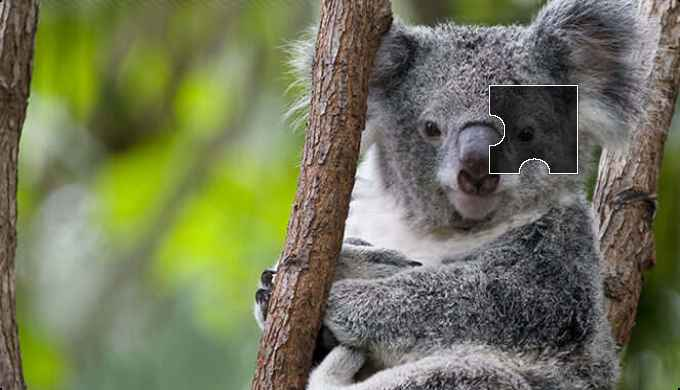gap: (489, 85, 577, 174)
